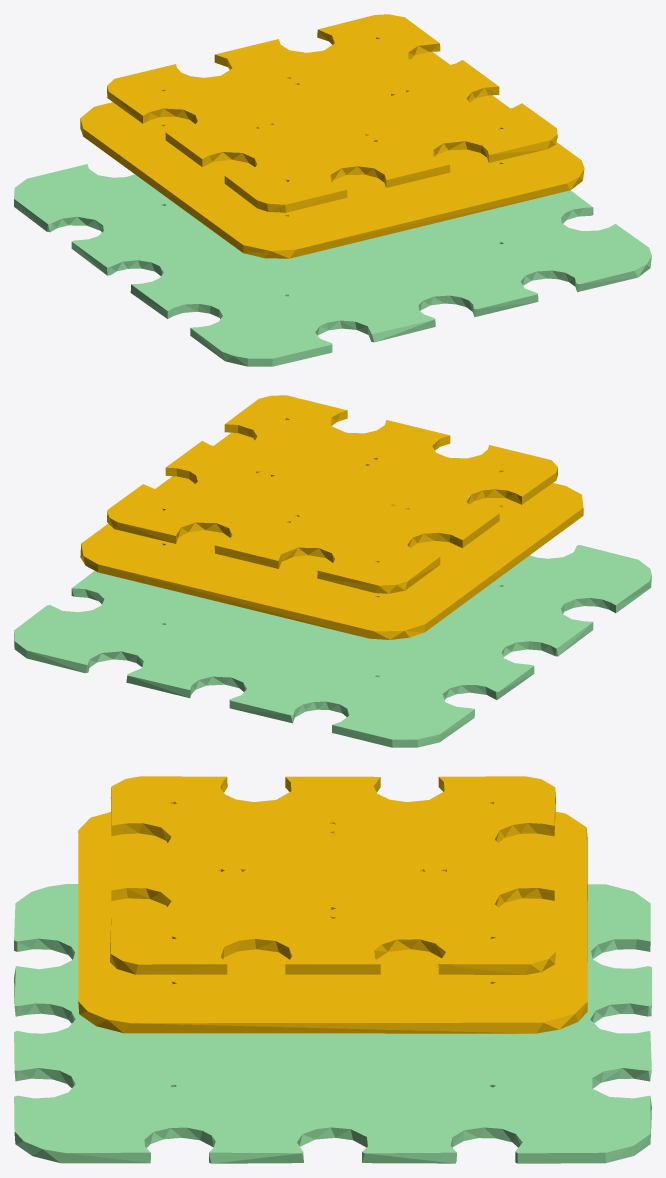
3 renders of one model, top to bottom at view 1: azimuth 30°, elevation 25°; view 2: azimuth 150°, elevation 25°; view 3: azimuth 270°, elevation 25°, orthographic. The views are drawn at different scales.
Parts seen in each view (by area): view 1: be, be 2; view 2: be, be 2; view 3: be, be 2.
Boxes of the visible parts, x1,y1,x2,y2 form: be: (80,14,584,258); be 2: (14,164,651,366); be: (80,395,583,639); be 2: (14,545,651,747); be: (78,776,587,1033); be 2: (14,884,651,1163).
Bounding box in the file's own units: 0.4998 × 0.4998 × 0.137.
